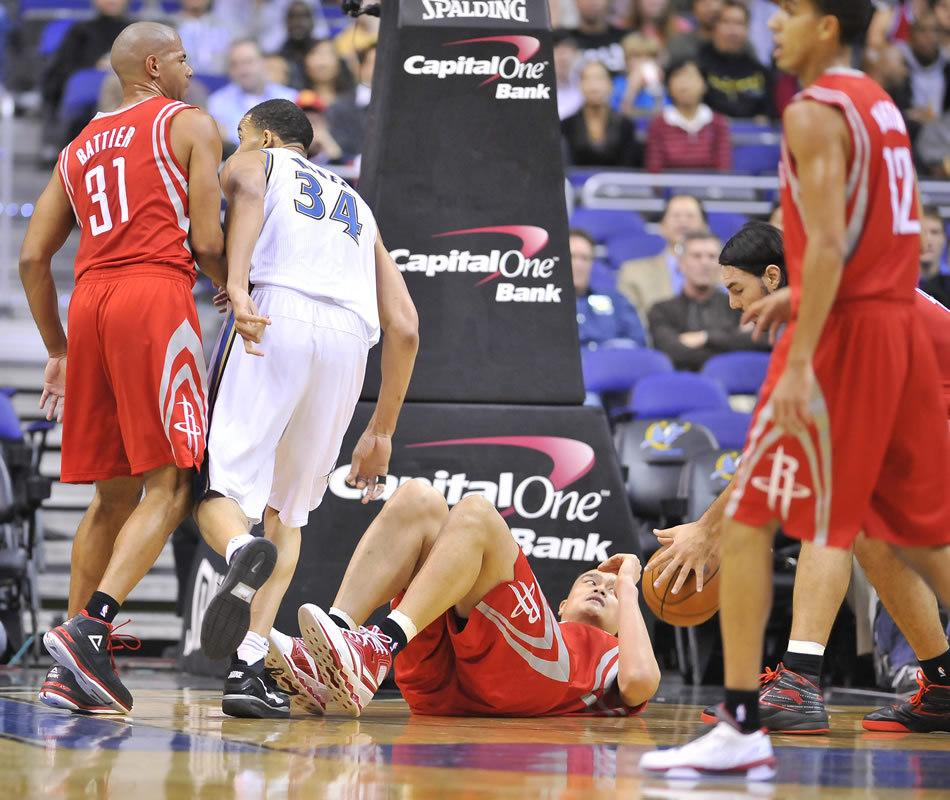down: (273, 463, 695, 715)
up: (648, 1, 950, 780), (4, 1, 236, 721), (194, 76, 423, 718)
